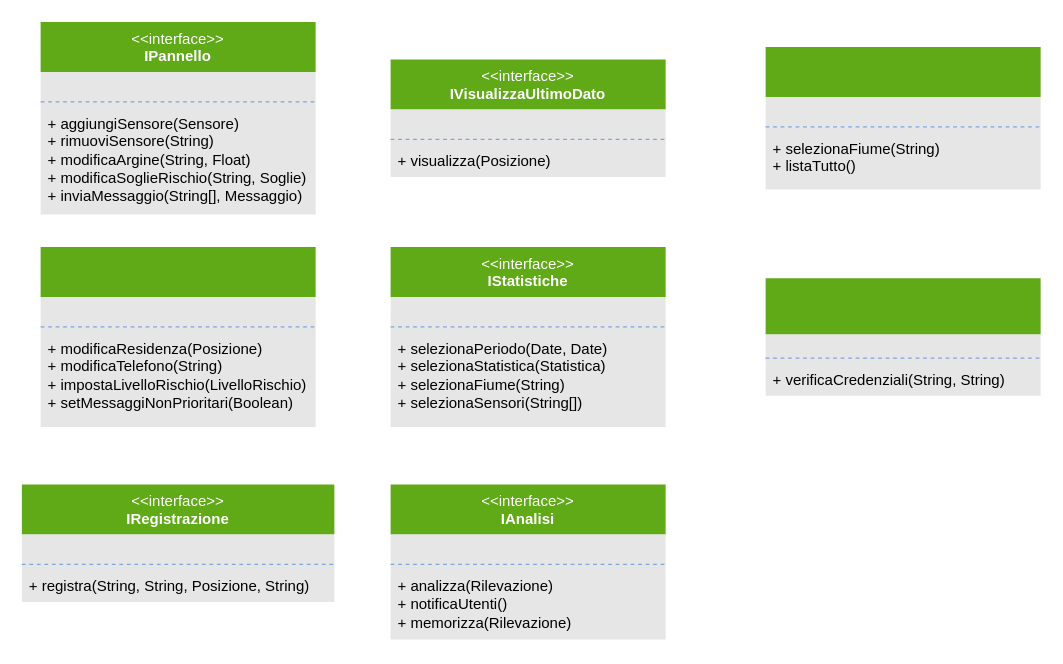
Image size: 1063x664. Some labels were removed from this diagram. The box of each missing label's shape, as (x1, y1, x2, y2) in pixels:
<<interface>> IAreaPersonale: (40, 246, 315, 426)
<<interface>> ILogin: (765, 278, 1040, 395)
<<interface>> IVisualizzaStorico: (765, 46, 1040, 189)
